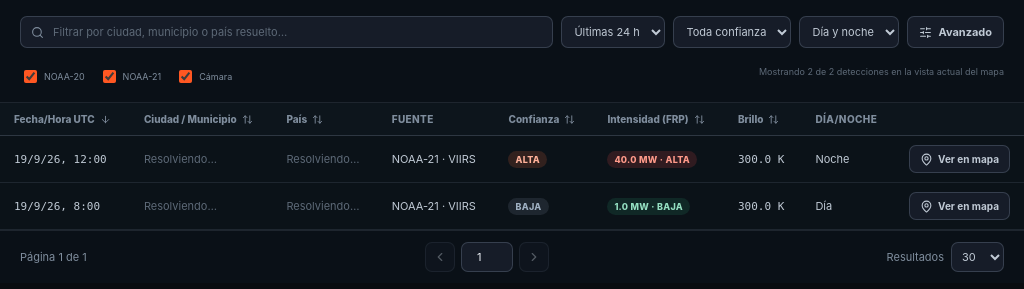
Test: FireTable › filters rows by day/night
The width and height of the screenshot is (1024, 289).
Select "Solo noche" in the dropdown named "Día o noche" at (849, 32), box [799, 16, 899, 48]
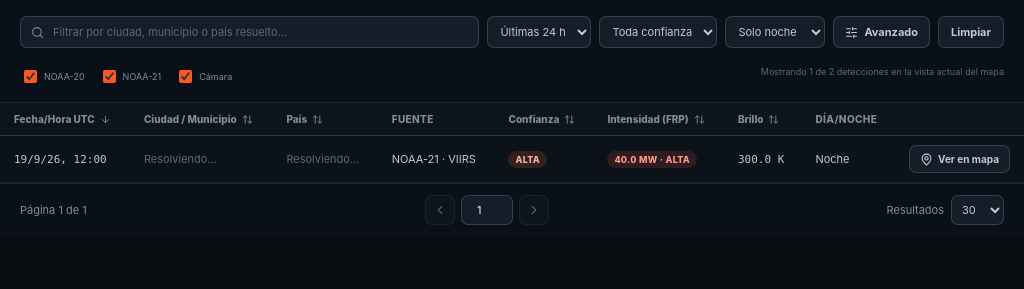
Result: the text "Mostrando 1 de 2 detecciones en la vista actual del mapa" is shown at [761, 66, 1004, 78]
